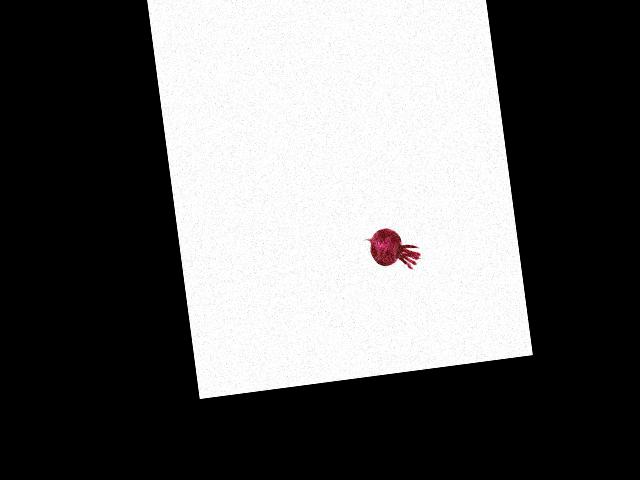beet: (361, 224, 422, 275)
